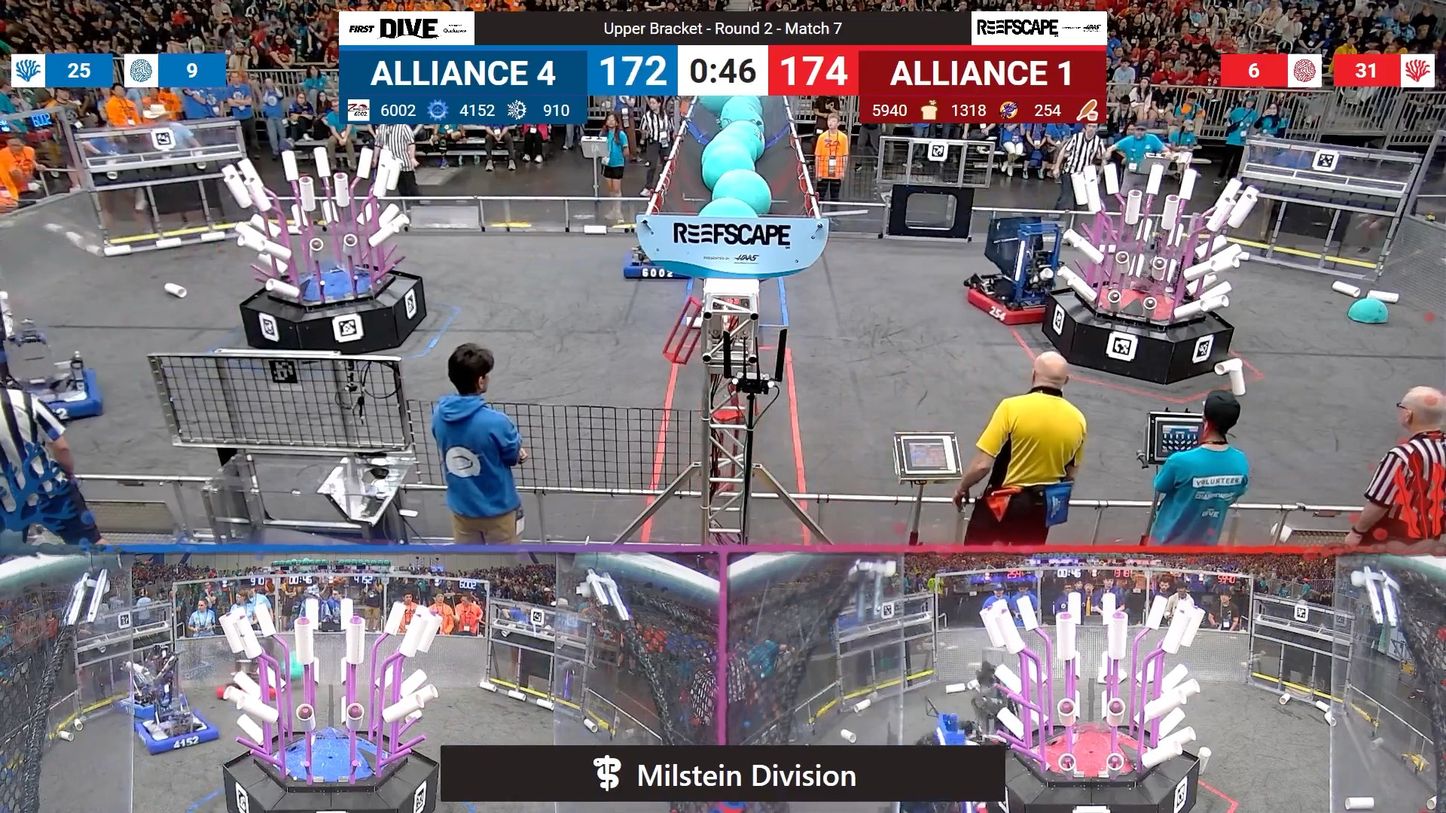bumpers: (11, 366, 111, 427), (966, 278, 1067, 329), (126, 714, 222, 759), (618, 254, 677, 282)
